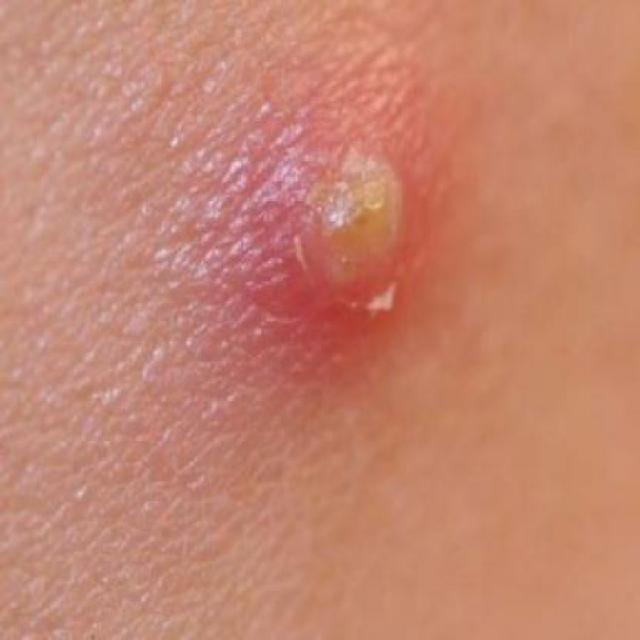Pimples: (248, 140, 423, 335)
